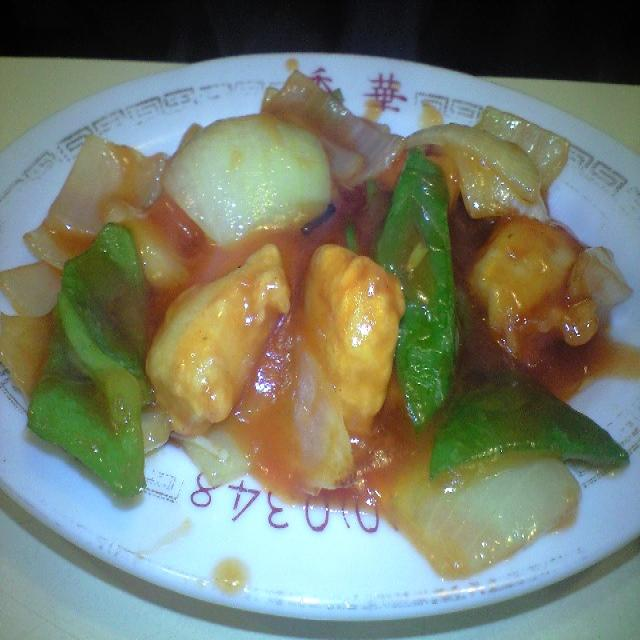猪肉菜式: (0, 66, 634, 582)
